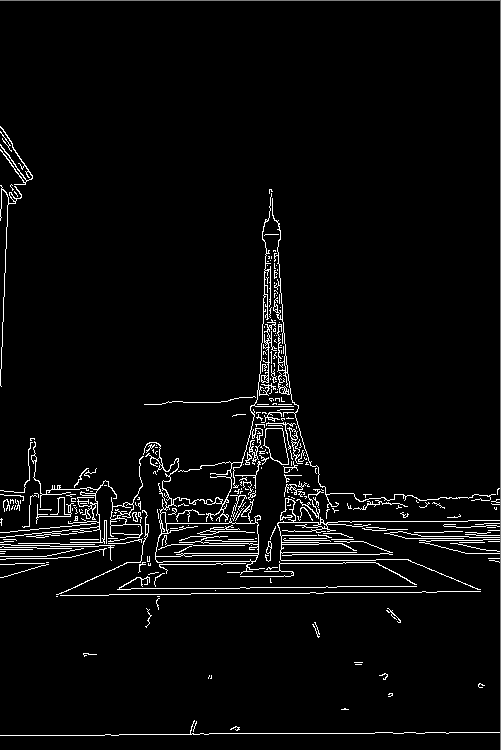eiffel tower: (187, 168, 349, 523)
